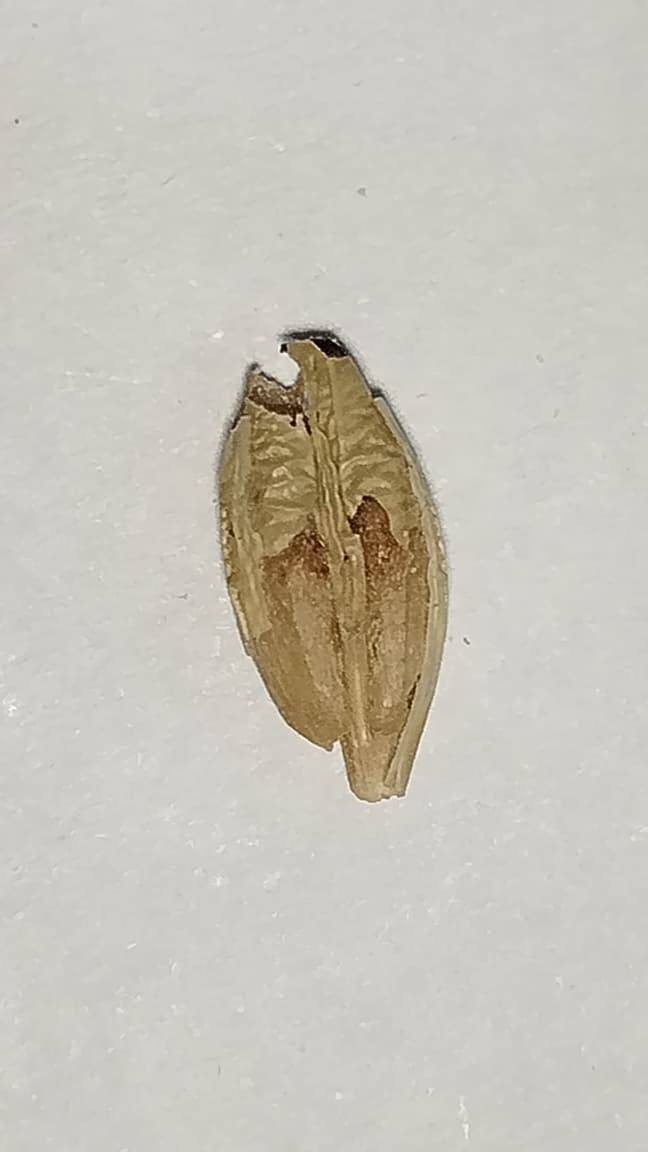crack: (313, 731, 386, 801)
damage: (220, 337, 454, 799)
insectdamage: (232, 329, 354, 431)
staindamage: (350, 497, 415, 613), (264, 528, 329, 601)
